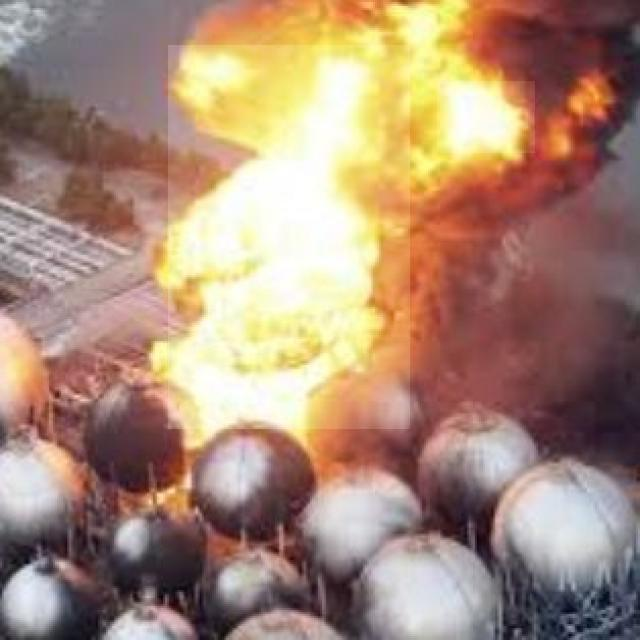Fire: (168, 45, 410, 429), (437, 81, 535, 153)
